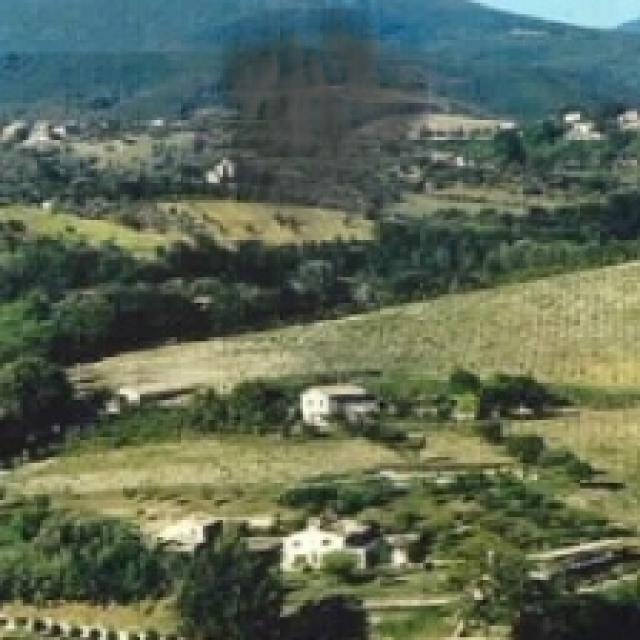smoke: (208, 9, 428, 254)
